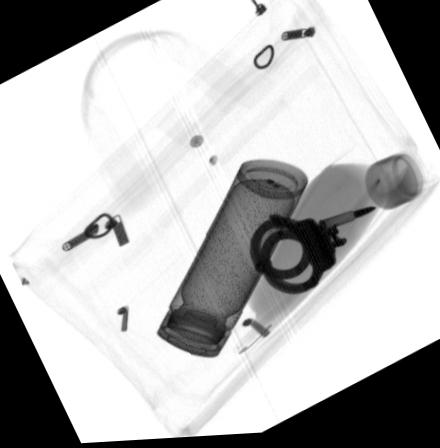Bullet: (317, 211, 378, 234)
HandCuffs: (248, 218, 347, 300)
